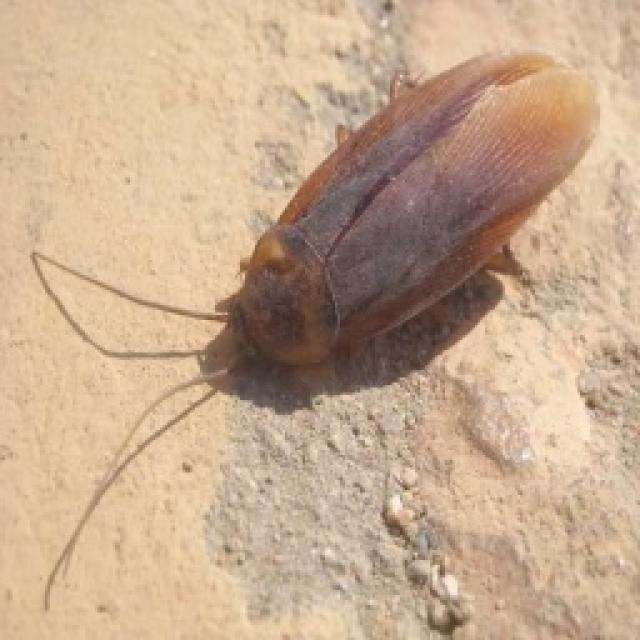cockroach: (26, 45, 603, 612)
